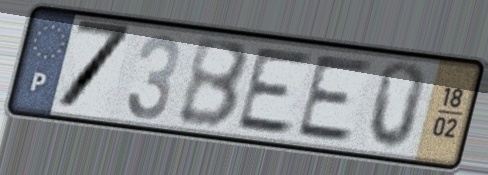0: (365, 60, 429, 153)
3: (126, 32, 181, 122)
7: (57, 17, 135, 117)
B: (174, 38, 252, 133)
E: (232, 46, 317, 138), (292, 53, 377, 145)
